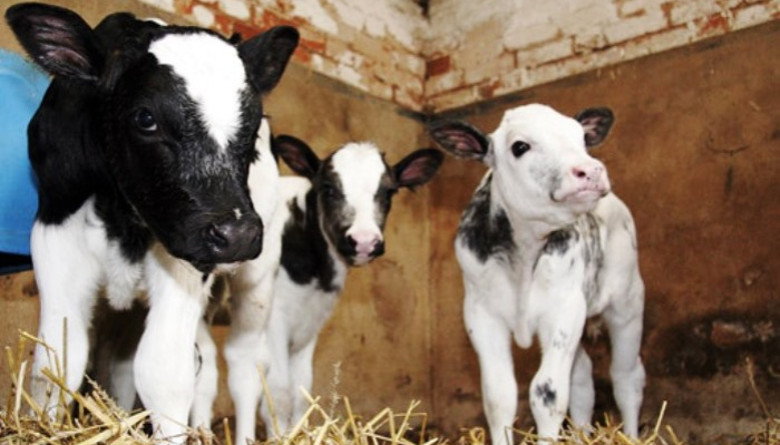bovino: (32, 1, 280, 442), (455, 105, 646, 445), (250, 138, 422, 445)
